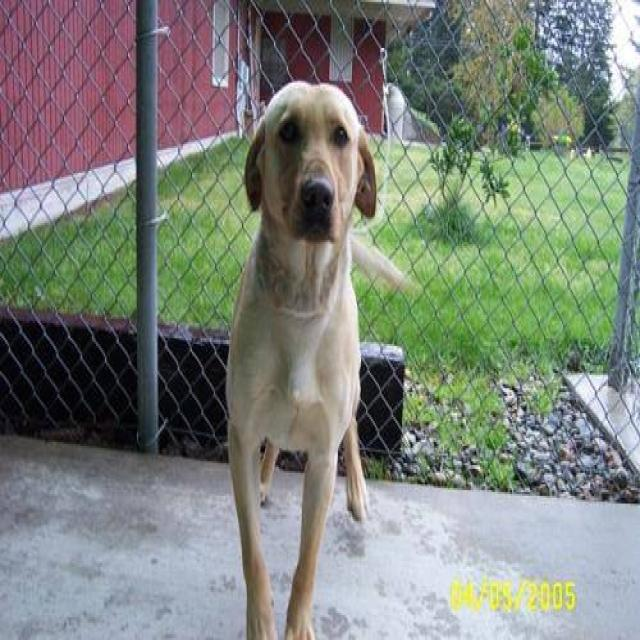dog: (224, 79, 419, 638)
